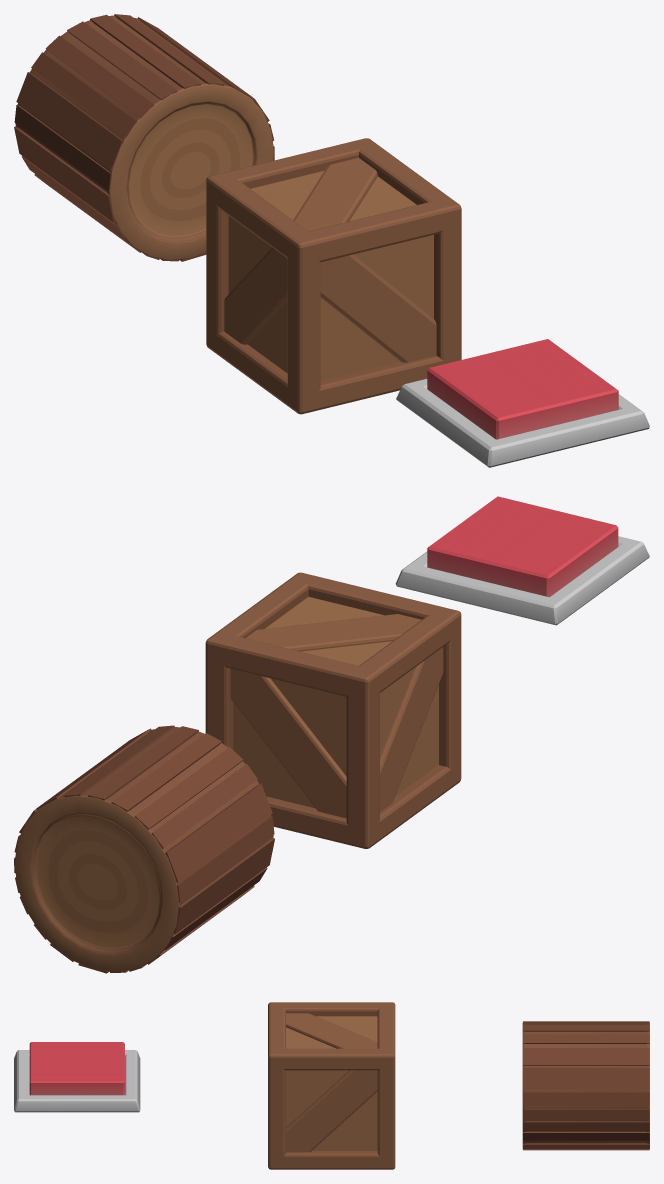
The model's file is crate-b.fbx.
The picture shows the model from 3 angles, top to bottom: view 1: azimuth 30°, elevation 25°; view 2: azimuth 150°, elevation 25°; view 3: azimuth 270°, elevation 25°; orthographic projection. The views are drawn at different scales.
Visible parts, largest first — view 1: Crate, Log, ButtonTop, ButtonBase; view 2: Crate, Log, ButtonTop, ButtonBase; view 3: Crate, Log, ButtonTop, ButtonBase.
Boxes of the visible parts, x1,y1,x2,y2 form: Crate: (206,138,461,414); Log: (14,14,274,261); ButtonTop: (427,339,618,439); ButtonBase: (396,379,649,467); Crate: (205,572,461,848); Log: (14,725,274,973); ButtonTop: (427,496,618,597); ButtonBase: (395,536,649,625); Crate: (268,1002,395,1169); Log: (522,1021,649,1150); ButtonTop: (29,1042,124,1095); ButtonBase: (14,1050,140,1112).
Size of the model in its own units: 203 by 203 by 999.
